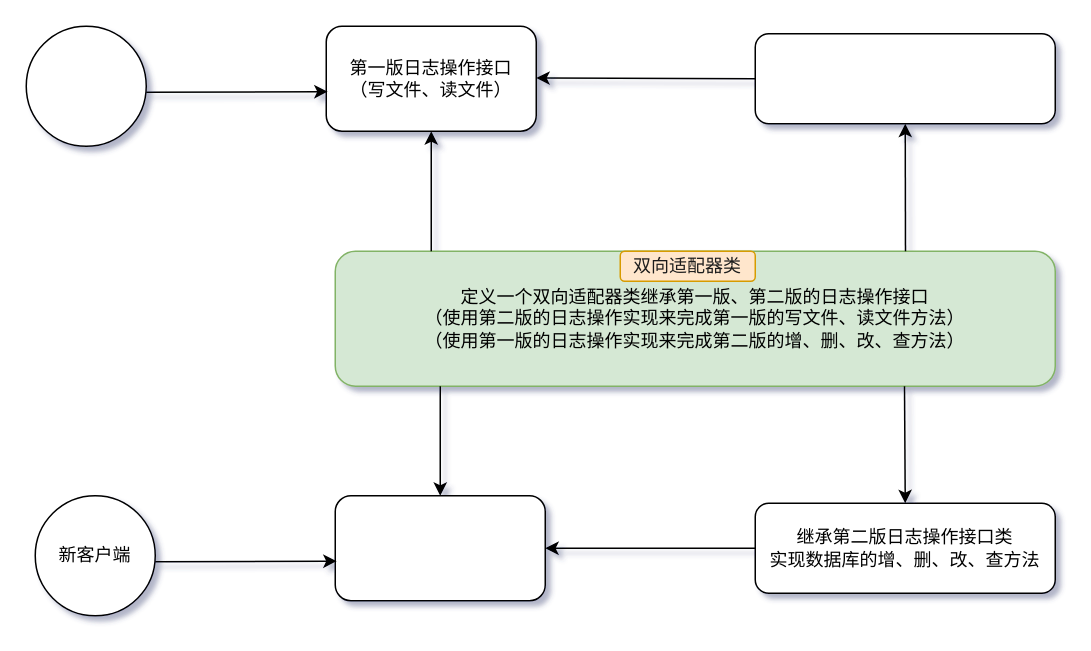
Image size: 1091x651. Some labels were removed from this diagram. Each missing label, with the centre of its shape:
旧客户端: pixel 85 85
第二版日志操作接口 （数据库管理增删改查）: pixel 439 547
继承第一版日志操作接口类： 实现写文件、读文件方法: pixel 904 78
